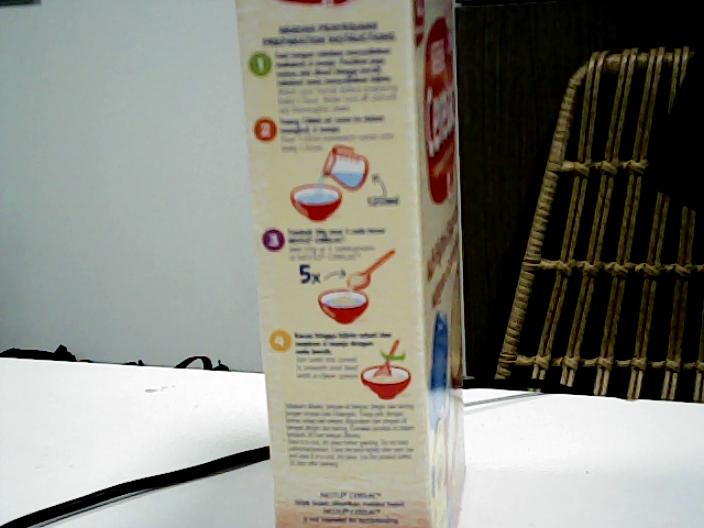Babyfood_200-299g_Halal_NonHealthy: (249, 1, 467, 528)
